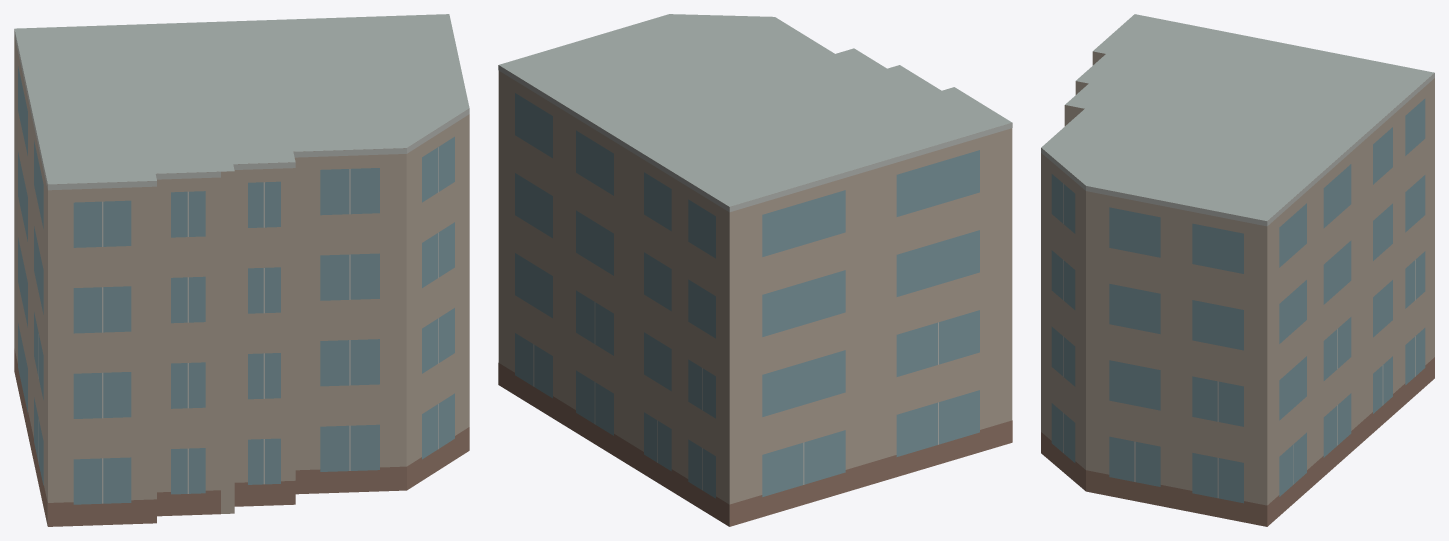
The model's file is survey-upis-32530009.glb.
The picture shows the model from 3 angles, left to right: view 1: azimuth 30°, elevation 25°; view 2: azimuth 150°, elevation 25°; view 3: azimuth 270°, elevation 25°; orthographic projection. The views are drawn at different scales.
Parts seen in each view (by area): view 1: survey-upis-32530009.tmp; view 2: survey-upis-32530009.tmp; view 3: survey-upis-32530009.tmp.
Boxes of the visible parts, x1,y1,x2,y2 form: survey-upis-32530009.tmp: [14, 14, 469, 526]; survey-upis-32530009.tmp: [498, 14, 1012, 526]; survey-upis-32530009.tmp: [1041, 14, 1434, 526].
Size of the model in its own units: 20.76 by 14.27 by 16.67.
